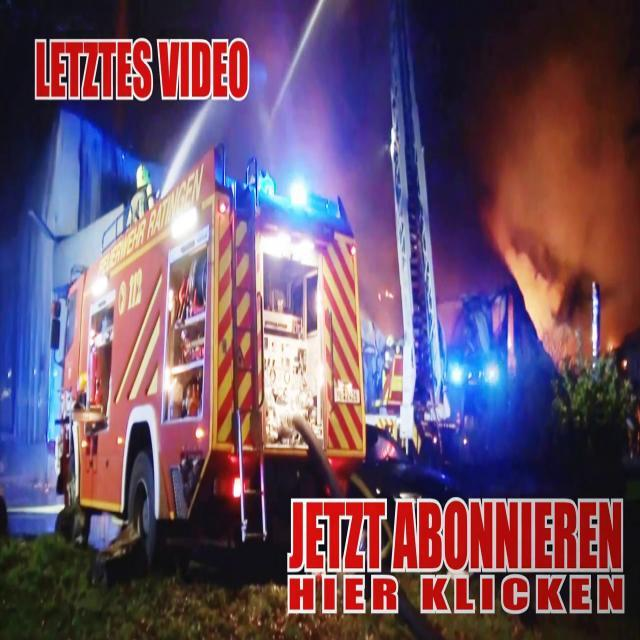Smoke: (481, 3, 640, 318)
